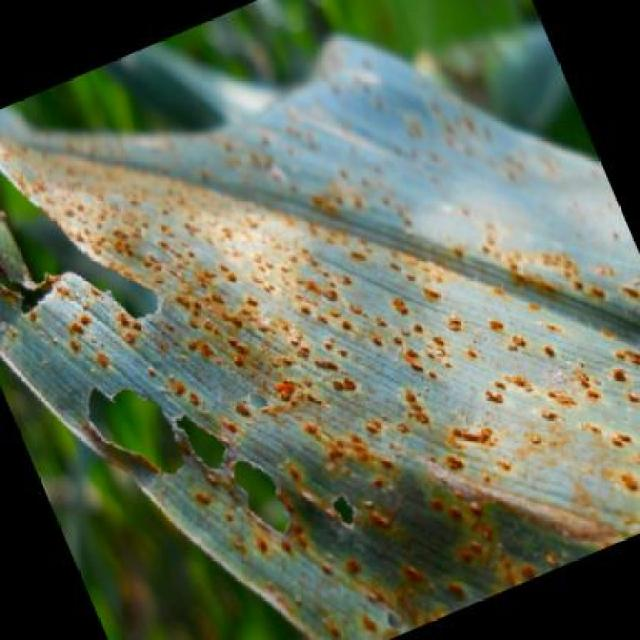Corn_Rust: (72, 81, 566, 562)
